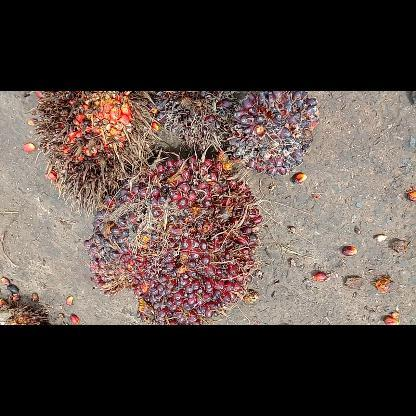TBS abnormal: (228, 92, 322, 180), (147, 92, 234, 150)
TBS masak: (82, 152, 266, 324)
Terlalu masak: (26, 92, 158, 216)
